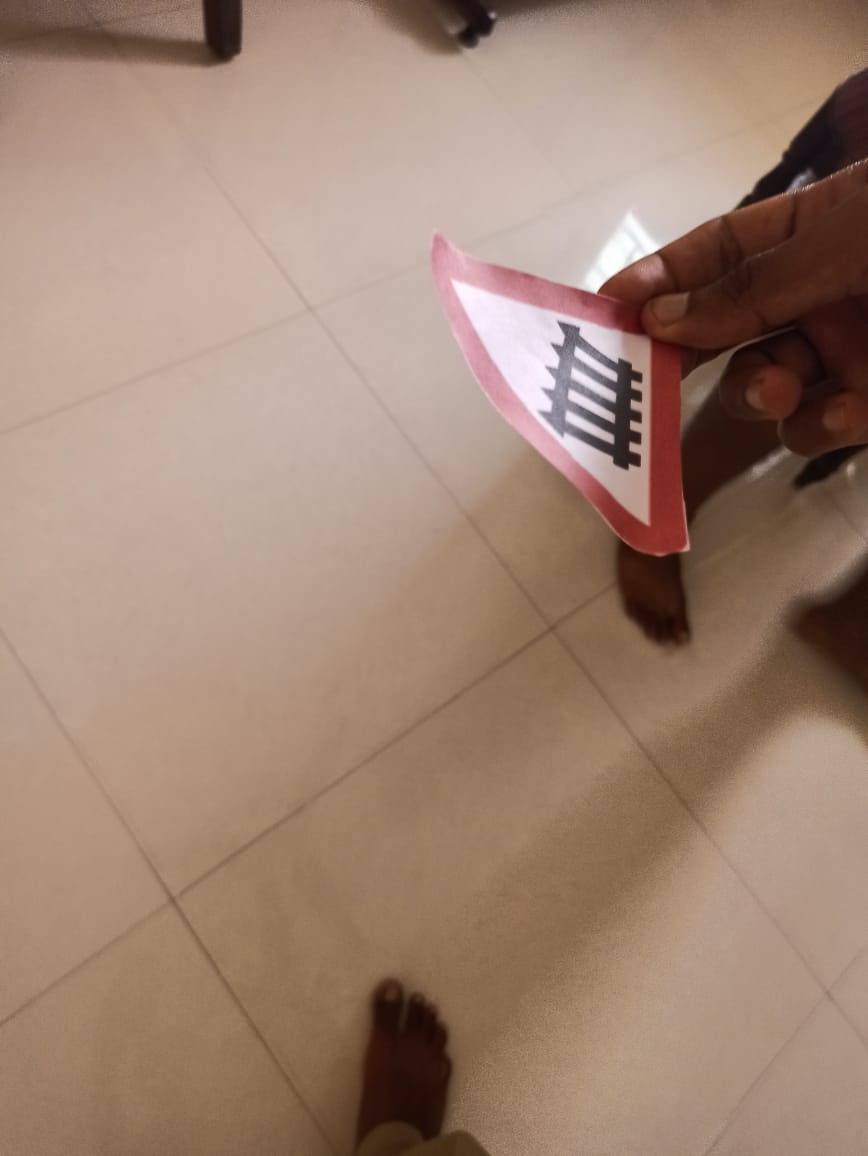GUARDED LEVEL CROSSING: (408, 237, 717, 575)
